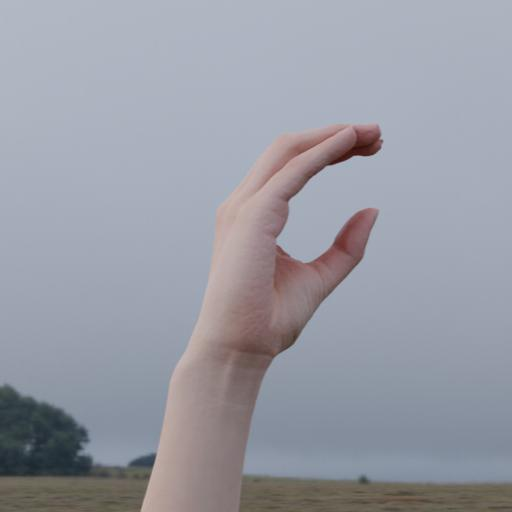C: (131, 114, 391, 512)
